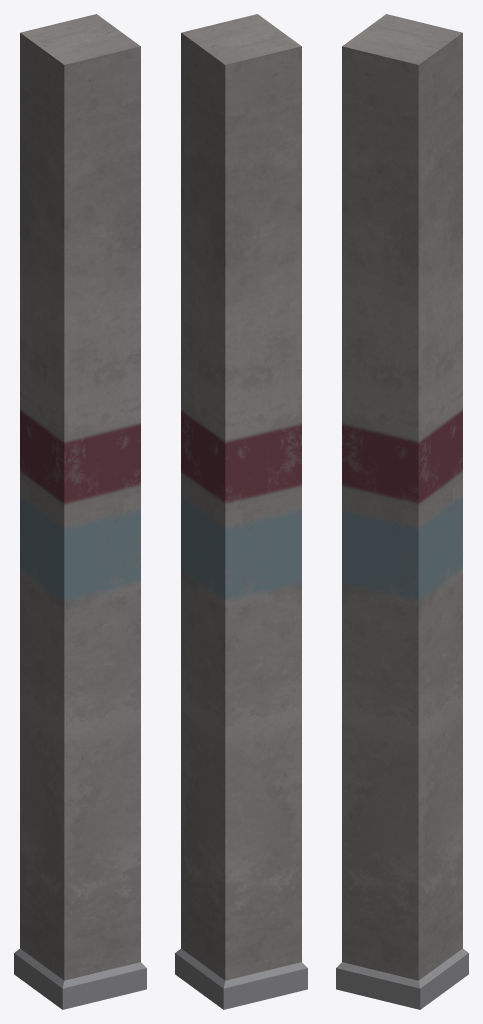
The model's file is SE_Corner.002.fbx.
3 renders of one model, left to right at view 1: azimuth 30°, elevation 25°; view 2: azimuth 210°, elevation 25°; view 3: azimuth 330°, elevation 25°, orthographic.
Parts seen in each view (by area): view 1: SE_Corner.002; view 2: SE_Corner.002; view 3: SE_Corner.002.
Boxes of the visible parts, left/top/right/bottom form: SE_Corner.002: left=14, top=14, right=146, bottom=1009; SE_Corner.002: left=175, top=14, right=307, bottom=1009; SE_Corner.002: left=336, top=14, right=468, bottom=1009.
Size of the model in its own units: 56.1 by 600 by 56.1.
